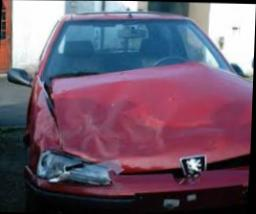Bonnet: (46, 59, 252, 173)
Light: (38, 152, 111, 188)
